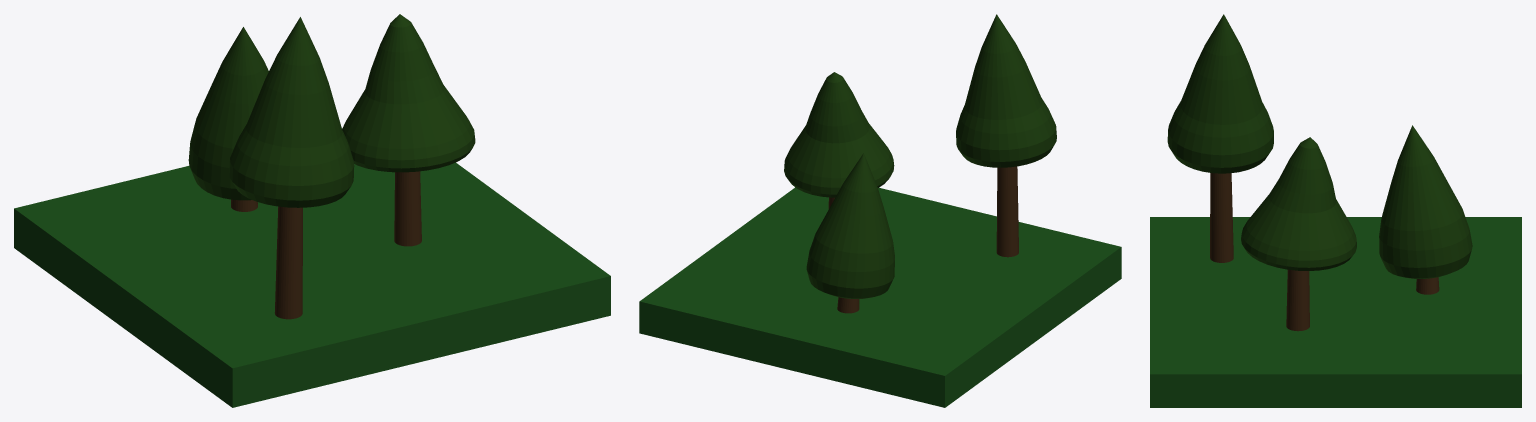
File: WoodTile.fbx
3 renders of one model, left to right at view 1: azimuth 30°, elevation 25°; view 2: azimuth 150°, elevation 25°; view 3: azimuth 270°, elevation 25°, orthographic. The views are drawn at different scales.
Parts seen in each view (by area): view 1: Woods, Cylinder; view 2: Woods, Cylinder; view 3: Woods, Cylinder.
Part boxes in pixels (<box>): Woods: <box>14,128,610,407</box>; Cylinder: <box>188,14,475,319</box>; Woods: <box>639,187,1121,407</box>; Cylinder: <box>784,14,1056,313</box>; Woods: <box>1150,217,1521,407</box>; Cylinder: <box>1167,14,1472,331</box>.
Bounding box in the file's own units: 1000 × 840 × 1000.
